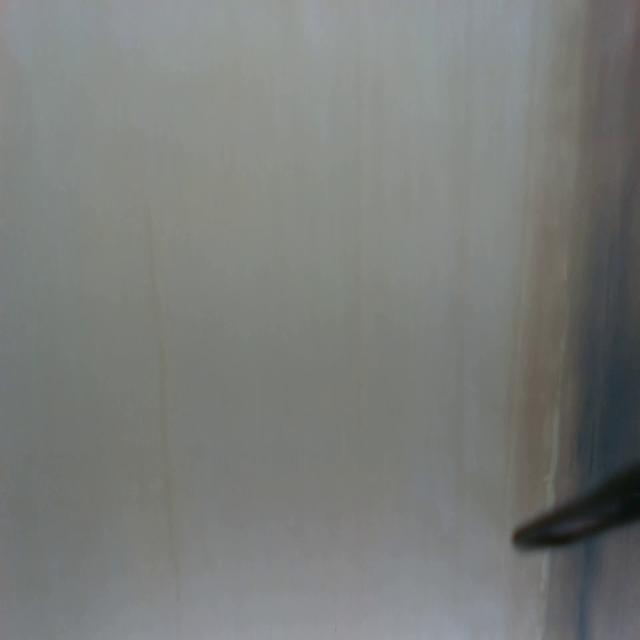color bleeding: (514, 1, 640, 469)
crease: (142, 196, 181, 619)
